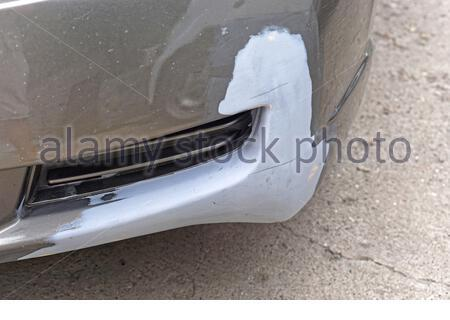front-bumper-dent: (0, 0, 395, 261)
